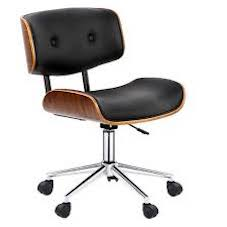chair: (9, 5, 194, 226)
